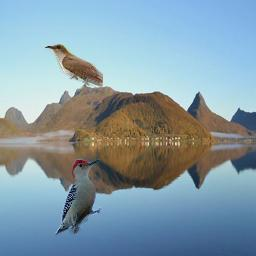Cuckoo: (43, 44, 103, 88)
Woodpecker: (54, 158, 101, 236)
